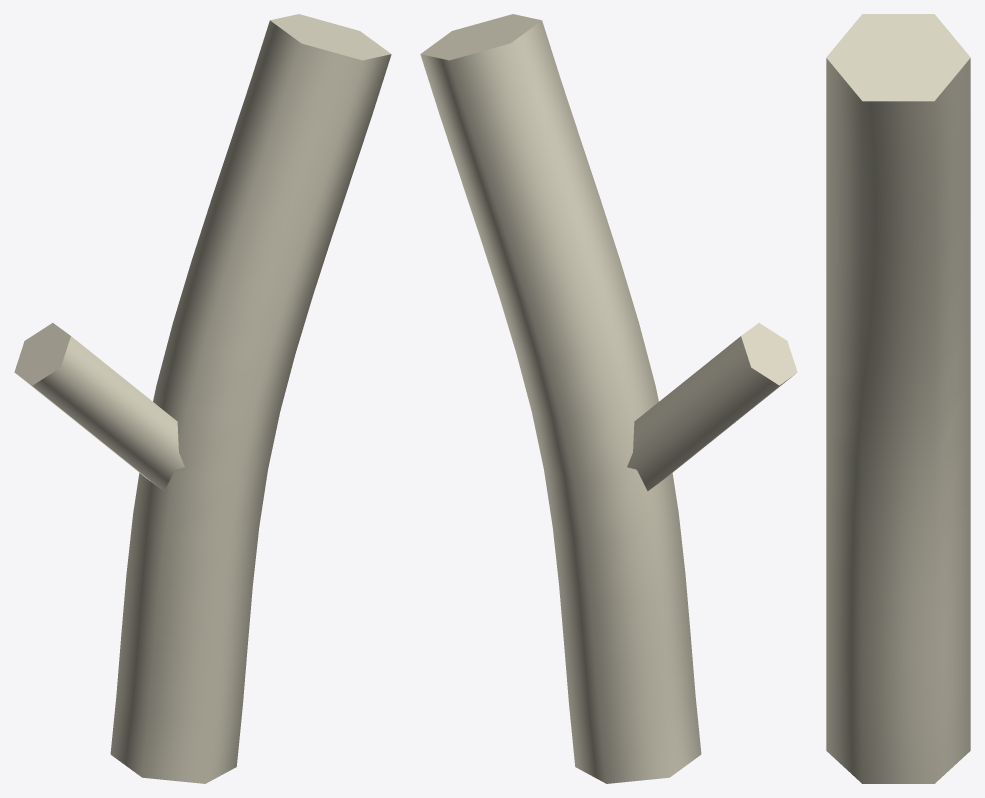
Rendered from primitive-crafting-workshop-antler-pressure-flaker-46491a71__21543.glb.
3 renders of one model, left to right at view 1: azimuth 30°, elevation 25°; view 2: azimuth 150°, elevation 25°; view 3: azimuth 270°, elevation 25°, orthographic. The views are drawn at different scales.
Parts seen in each view (by area): view 1: antler-pressure-flaker; view 2: antler-pressure-flaker; view 3: antler-pressure-flaker.
Part boxes in pixels (left/top/right/bottom): antler-pressure-flaker: left=14, top=14, right=391, bottom=783; antler-pressure-flaker: left=420, top=14, right=797, bottom=783; antler-pressure-flaker: left=826, top=14, right=970, bottom=783.
Bounding box in the file's own units: 0.1345 × 0.2582 × 0.042.
